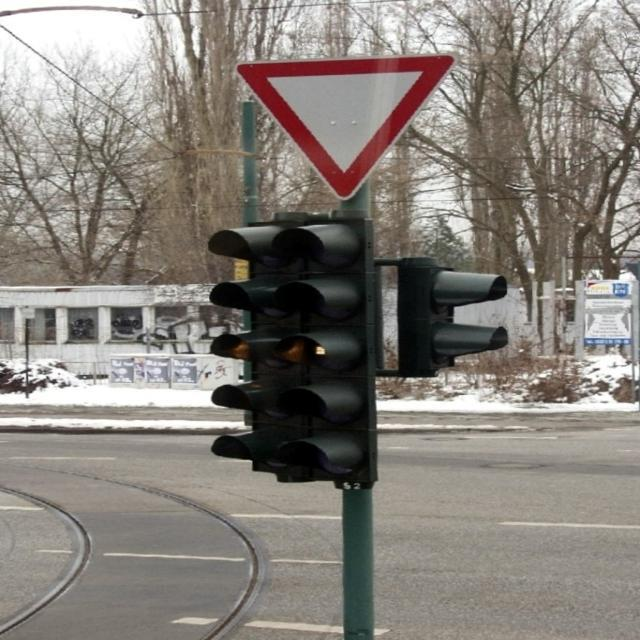off traffic light: (415, 259, 514, 383)
road_sign: (236, 54, 455, 198)
traffic light: (214, 224, 292, 464), (298, 228, 371, 468)
